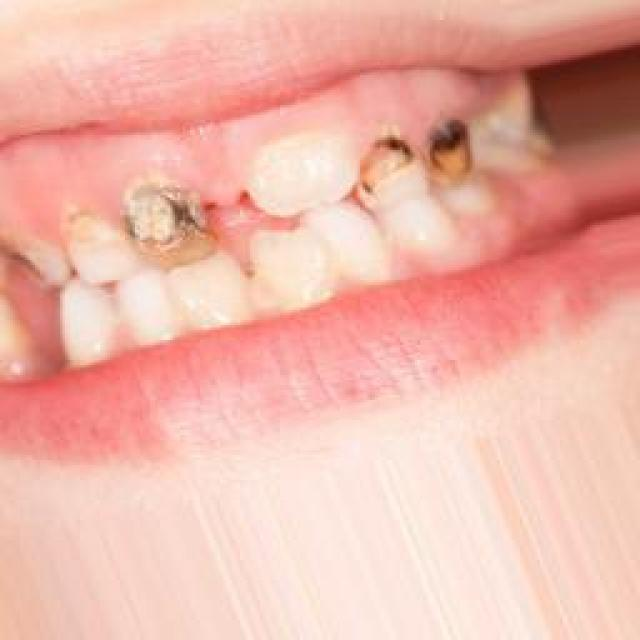decay: (138, 193, 198, 258), (360, 143, 410, 198), (435, 122, 470, 190)
